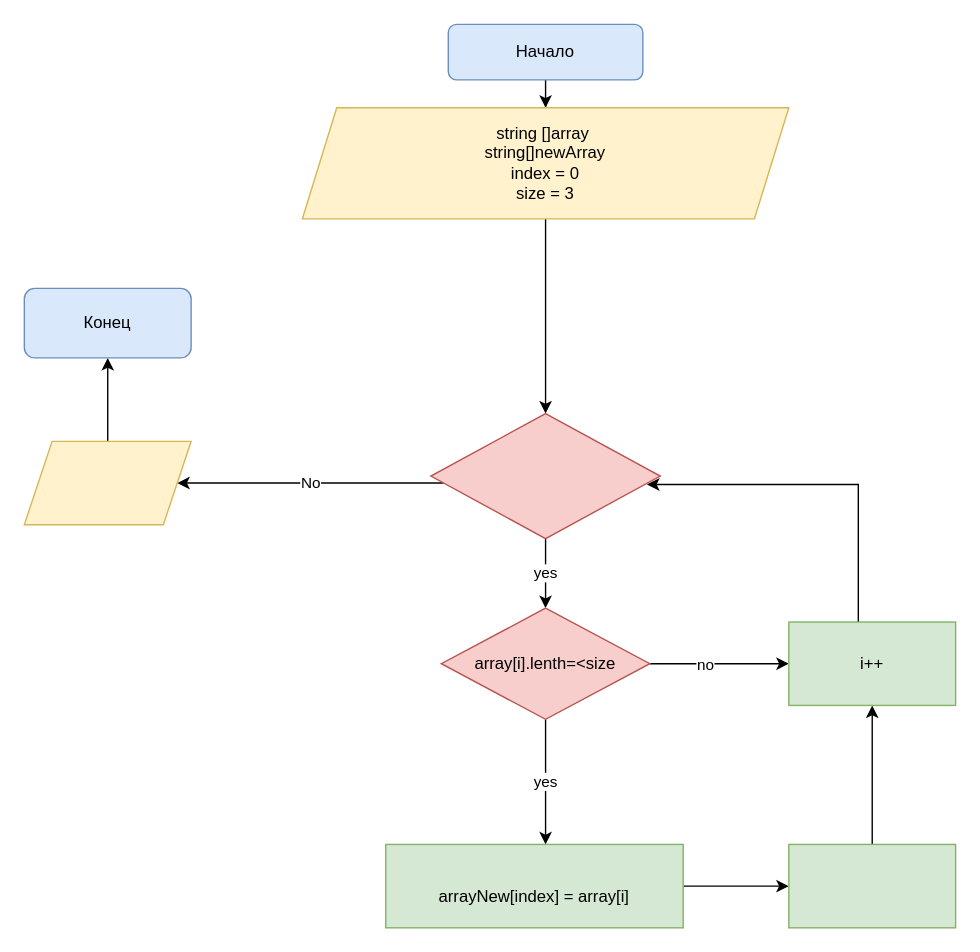
The diagram is 980 pixels wide and 952 high, and some of its shapes have lost their labels. Here are the shapes that lost their labels. From the top down, the box of each, then its label:
(23, 440, 191, 525): Print(arrayNew)
(430, 412, 660, 539): index <=array.Lenth
(787, 843, 956, 928): index = index +1
